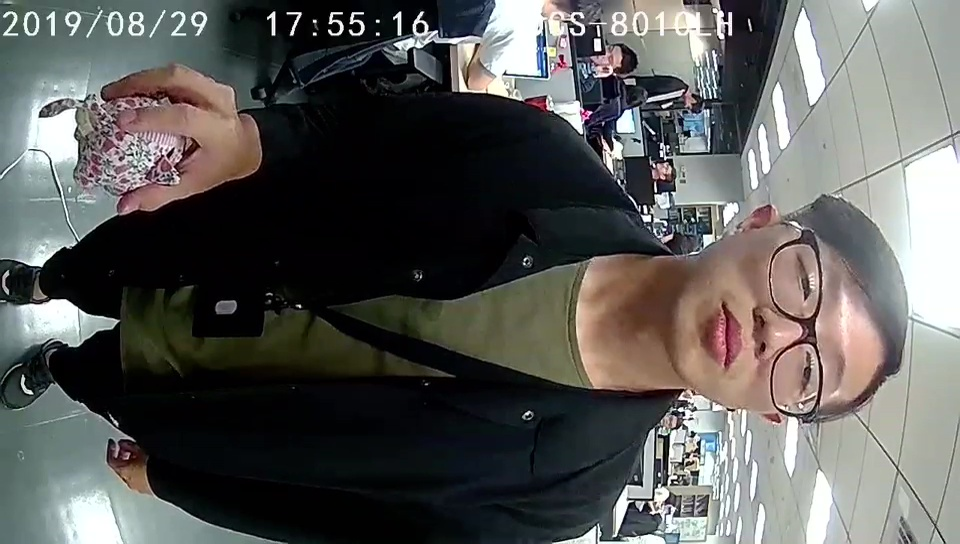pig: (73, 95, 185, 195)
